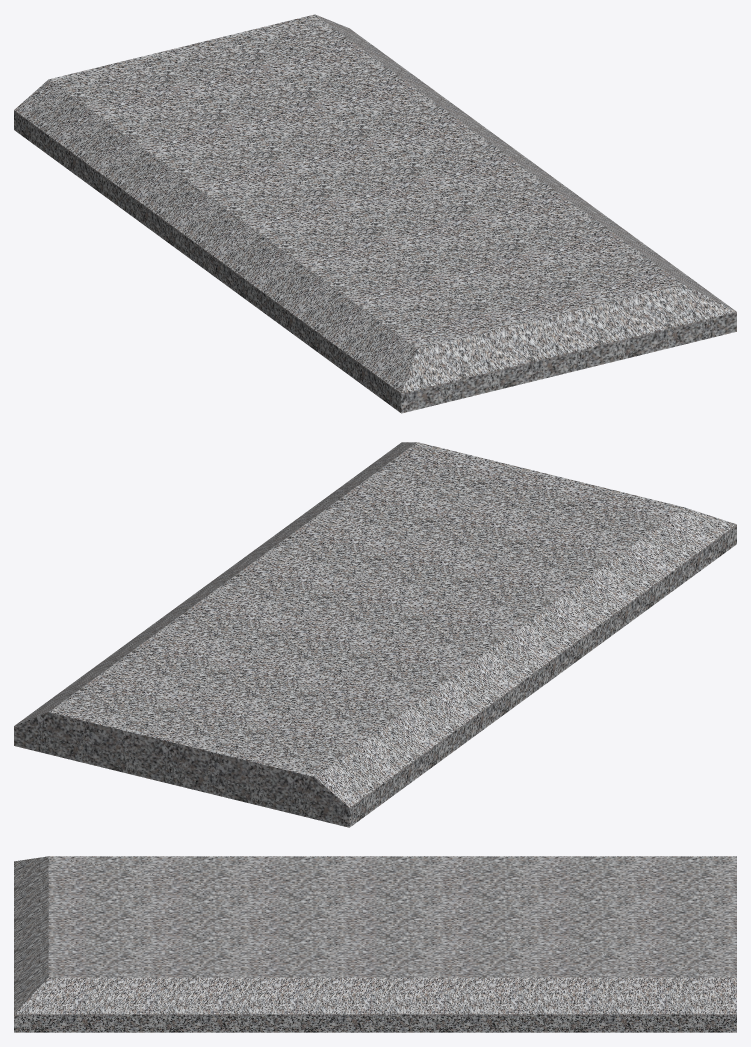
File: Tombale Chanfrein Moderne.fbx
The picture shows the model from 3 angles, top to bottom: view 1: azimuth 30°, elevation 25°; view 2: azimuth 150°, elevation 25°; view 3: azimuth 270°, elevation 25°; orthographic projection. The views are drawn at different scales.
Parts seen in each view (by area): view 1: Tombale_ChanfreinModerne; view 2: Tombale_ChanfreinModerne; view 3: Tombale_ChanfreinModerne.
Part boxes in pixels (x1=…): Tombale_ChanfreinModerne: x1=14, y1=14, x2=736, y2=413; Tombale_ChanfreinModerne: x1=14, y1=442, x2=736, y2=827; Tombale_ChanfreinModerne: x1=14, y1=856, x2=736, y2=1032.
Bounding box in the file's own units: 100 × 200 × 12.
